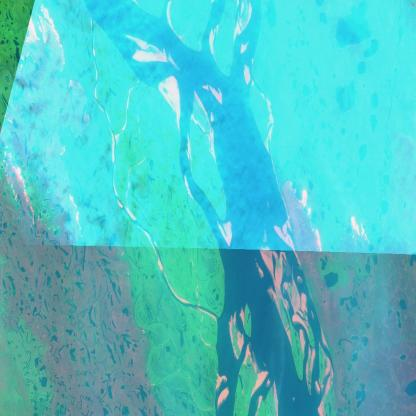fire: (0, 152, 36, 227)
